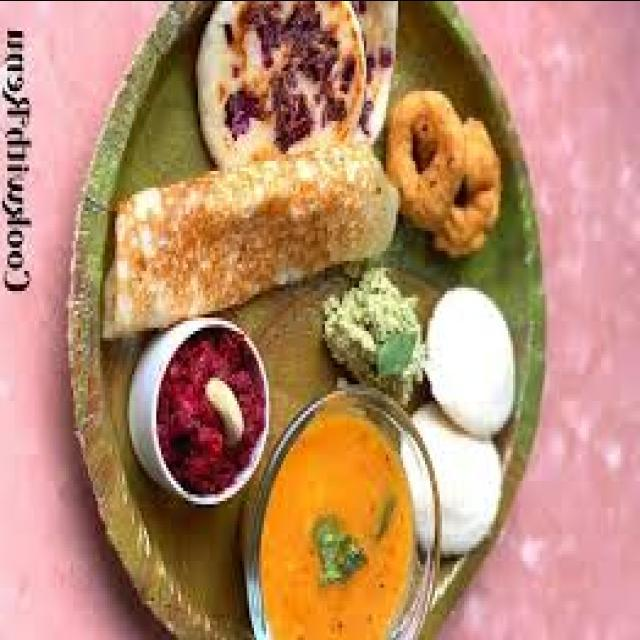dal: (251, 394, 412, 628)
papad: (120, 116, 390, 310)
sambar-rasam: (249, 398, 415, 628)
sweet: (161, 340, 267, 486)
